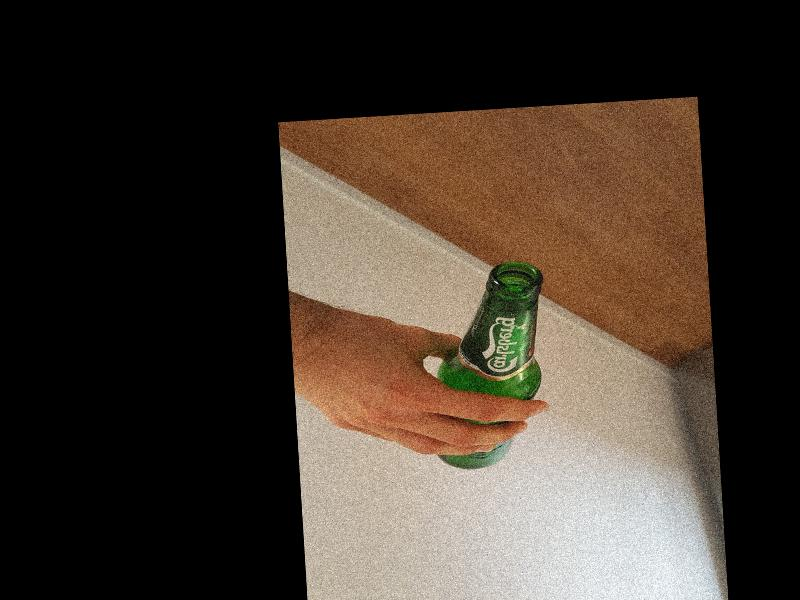Beer: (430, 259, 553, 470)
